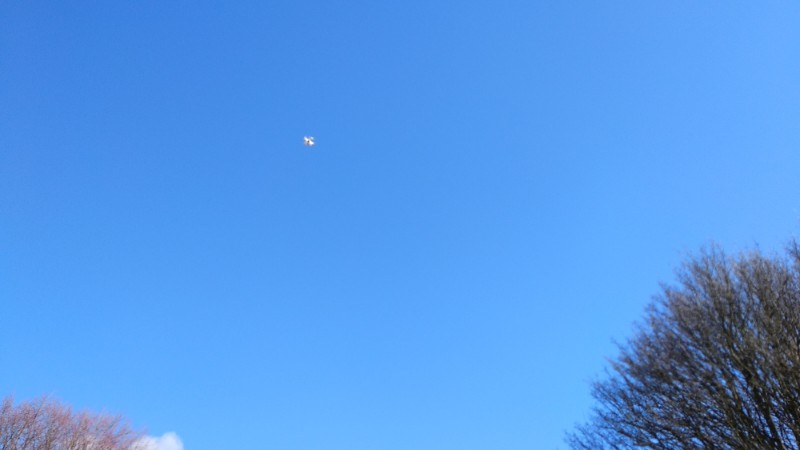drone: (302, 134, 315, 147)
